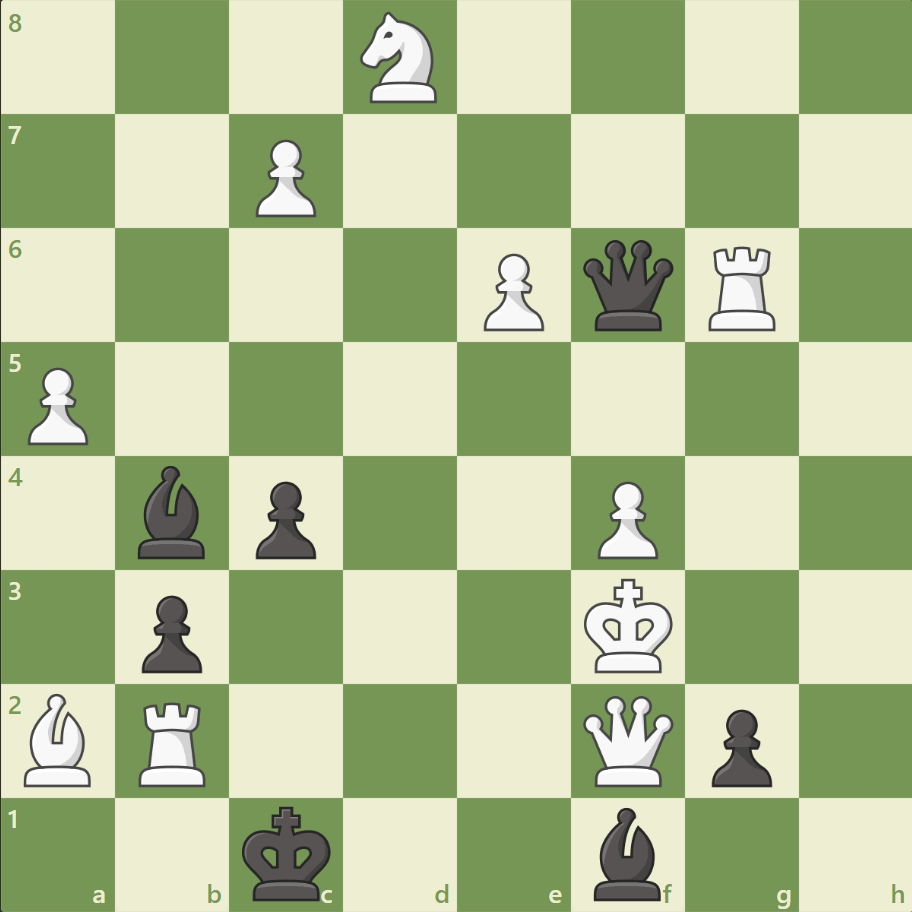B: (17, 687, 101, 790)
K: (579, 571, 679, 679)
N: (351, 7, 449, 110)
P: (247, 132, 322, 223), (474, 246, 549, 337), (20, 359, 95, 450), (588, 473, 662, 564)
Q: (578, 690, 677, 789)
R: (700, 239, 783, 336), (133, 693, 215, 790)
b: (131, 460, 215, 563), (585, 801, 669, 904)
k: (238, 798, 338, 906)
p: (247, 473, 322, 564), (133, 586, 208, 677), (701, 700, 776, 791)
q: (578, 236, 677, 335)
